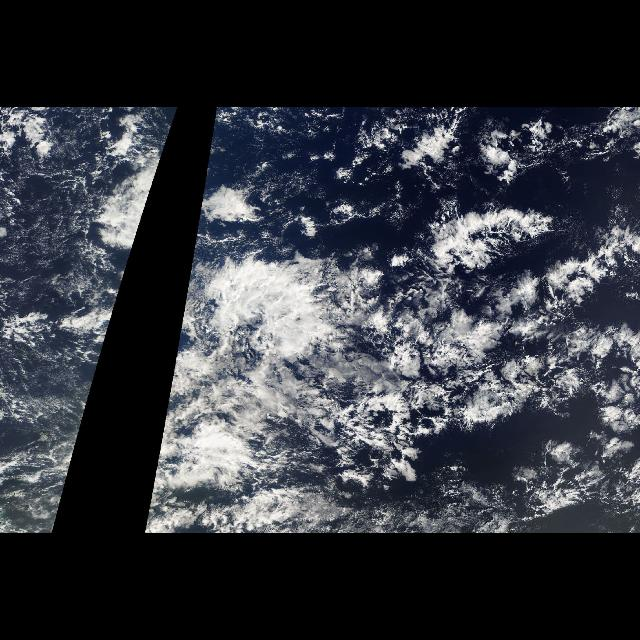Fish: (338, 216, 638, 466)
Flower: (394, 146, 638, 530)
Sugar: (0, 162, 108, 322)
